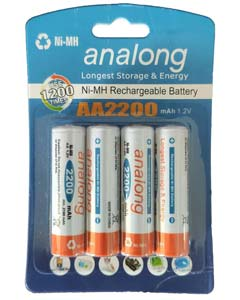Battery: (120, 123, 157, 257), (85, 123, 122, 257), (155, 124, 190, 258), (50, 123, 85, 257)
